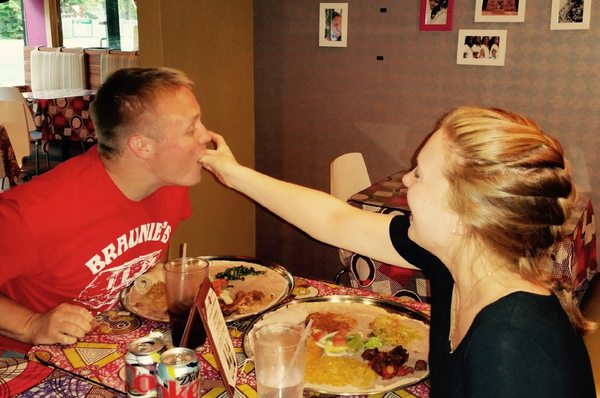pizza: (250, 316, 307, 398), (164, 257, 209, 348), (156, 346, 200, 398)
